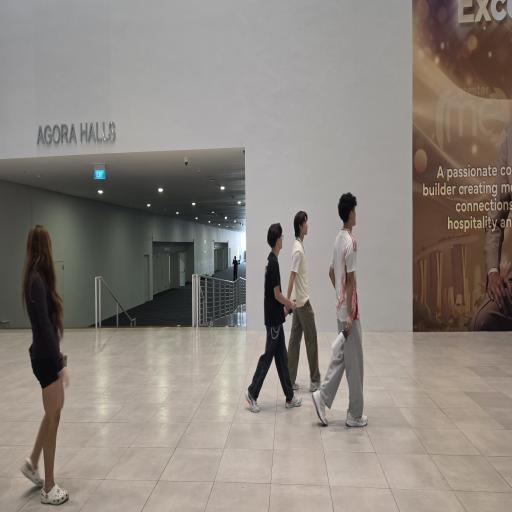person_right: (11, 211, 77, 508), (316, 187, 367, 436), (252, 208, 291, 418), (284, 208, 320, 387)
